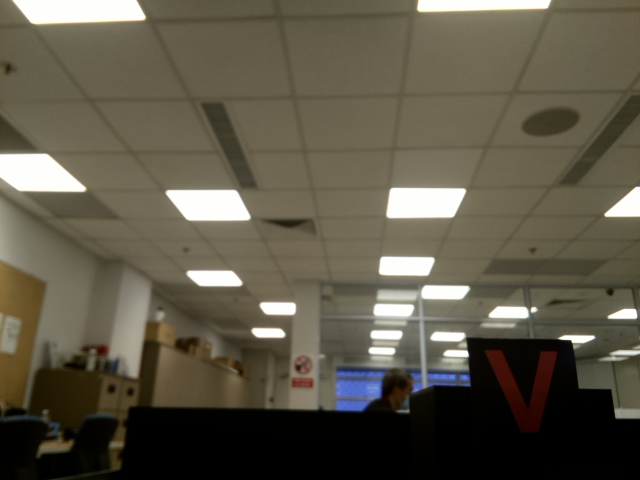v: (487, 351, 557, 438)
